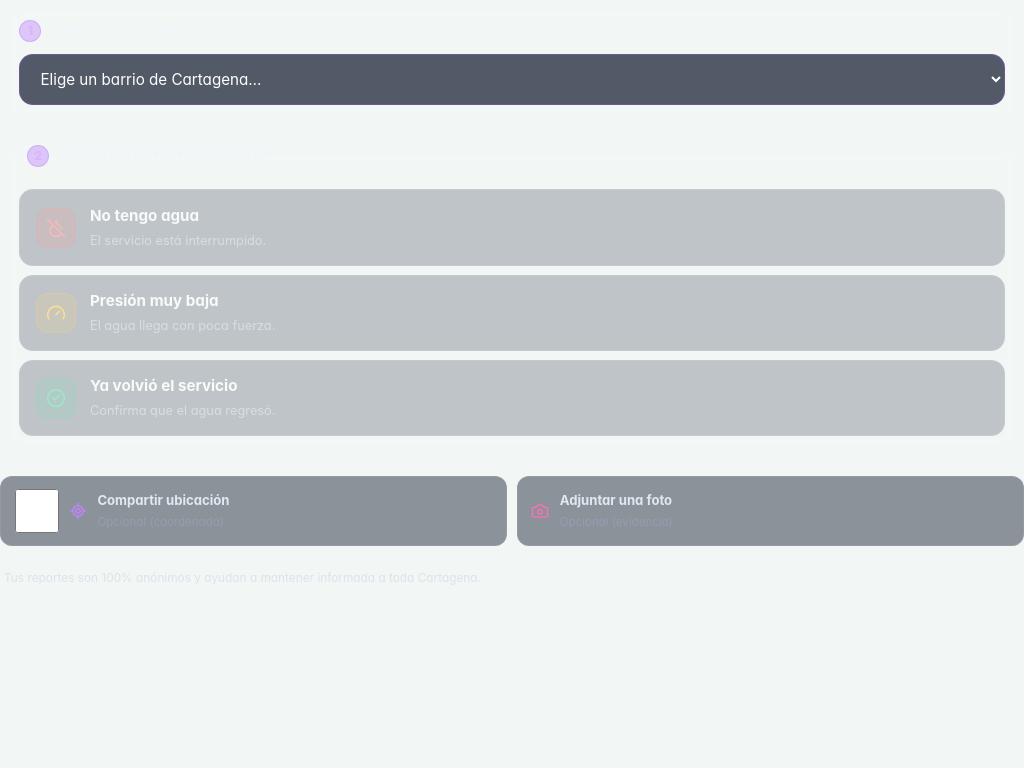
Test: FormularioReporte › no muestra éxito cuando el backend rechaza el reporte
Select "BOCAGRANDE" in the dropdown labelled "1 Selecciona tu barrio" at (512, 80), box left=19, top=54, right=1005, bottom=105
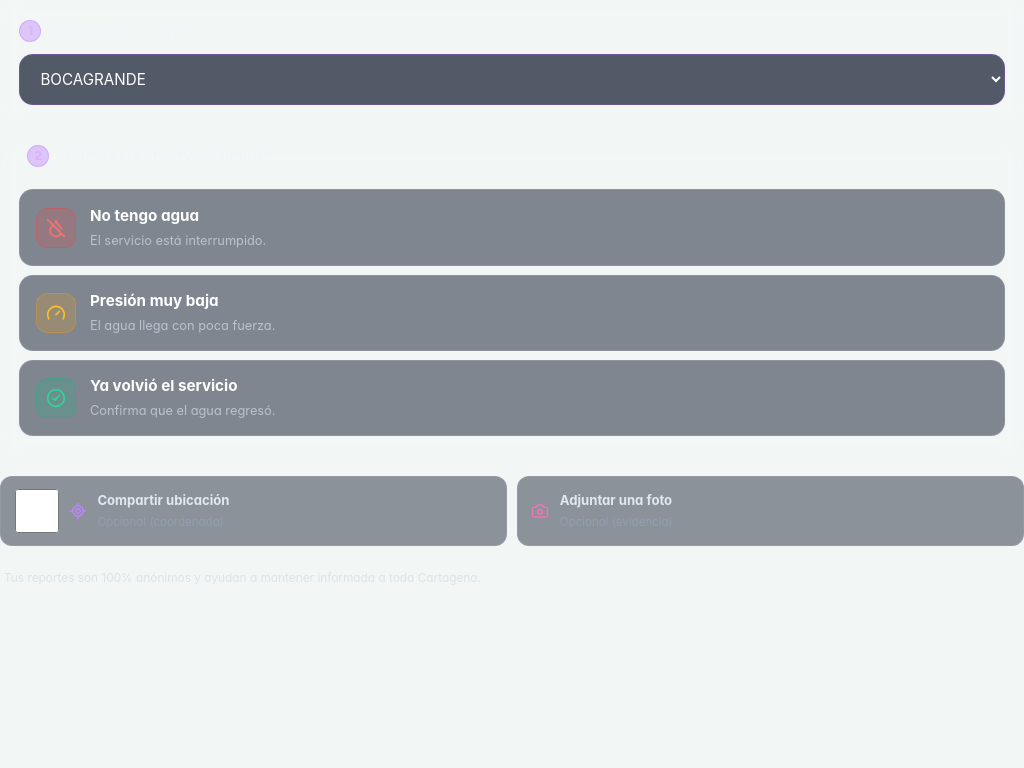
Click the button "Presión muy baja El agua llega con poca fuerza." at (56, 313), box left=19, top=275, right=1005, bottom=351
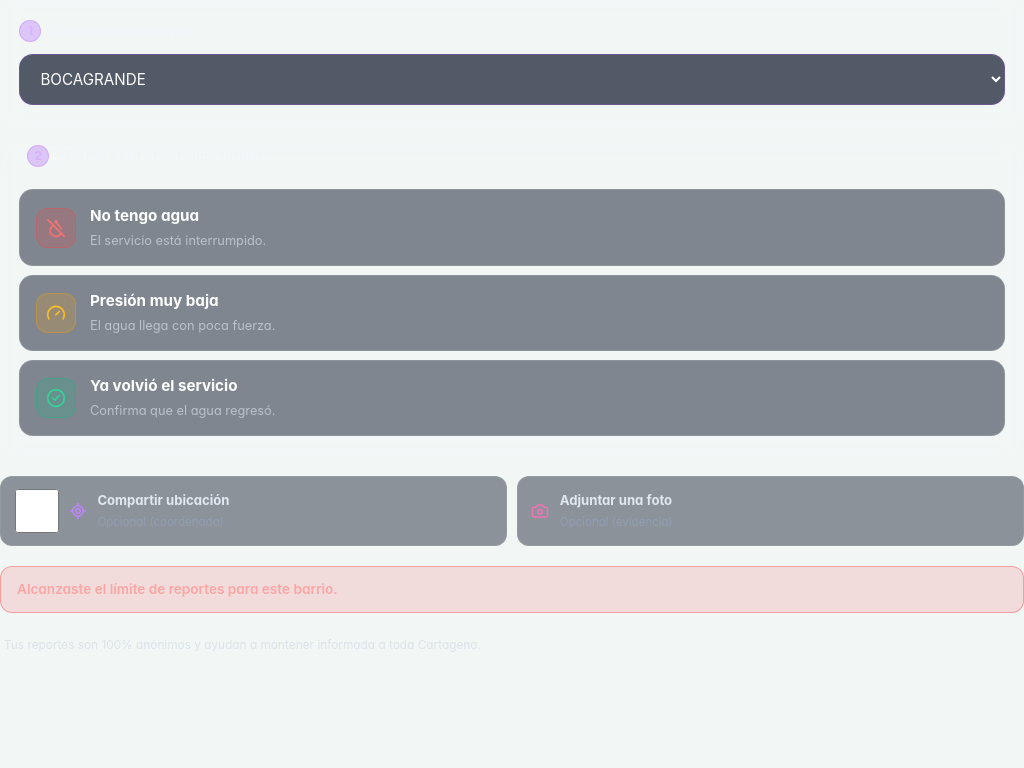
Expected: the message shows "Alcanzaste el límite", left=17, top=580, right=338, bottom=596
